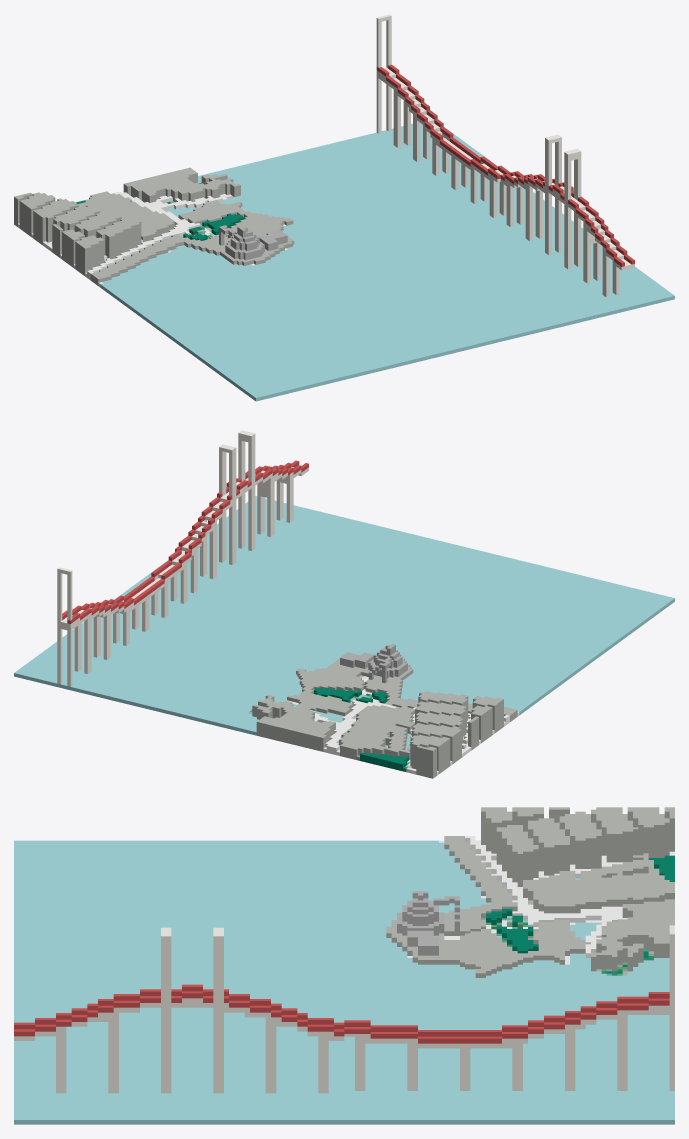
The model's file is 210508macau-7.obj.
The picture shows the model from 3 angles, top to bottom: view 1: azimuth 30°, elevation 25°; view 2: azimuth 150°, elevation 25°; view 3: azimuth 270°, elevation 25°; orthographic projection. The views are drawn at different scales.
Size of the model in its own units: 12.6 by 3.4 by 12.6.
1 material, 1 textured.
